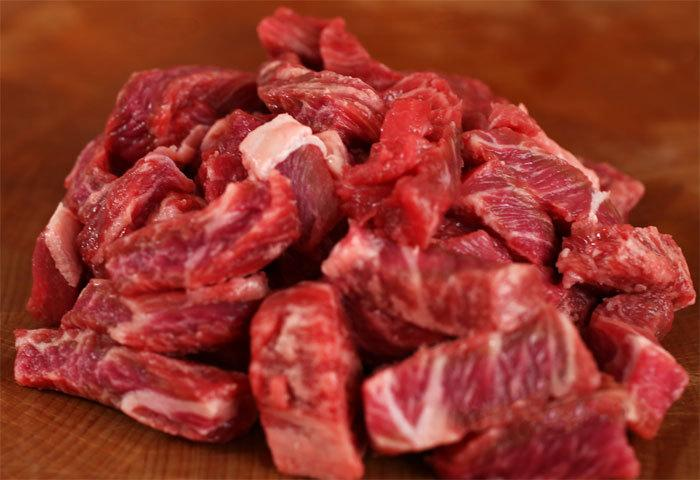beef: (59, 48, 700, 329)
